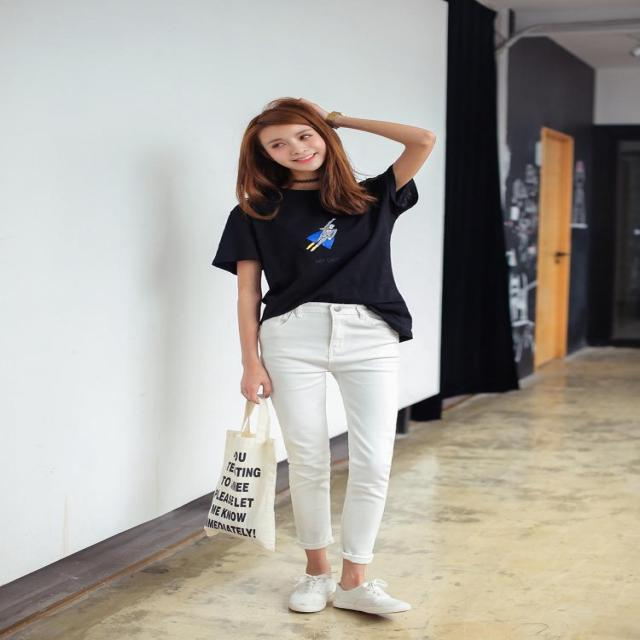short sleeve top: (213, 164, 412, 338)
trousers: (265, 298, 397, 563)
